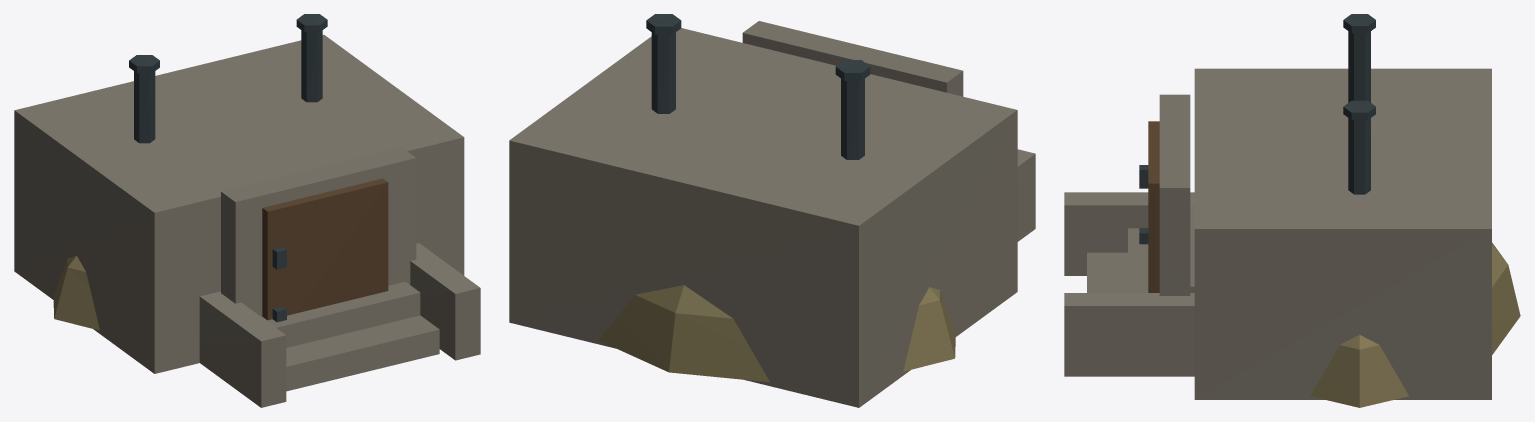
File: root-cellar.source.glb
3 renders of one model, left to right at view 1: azimuth 30°, elevation 25°; view 2: azimuth 150°, elevation 25°; view 3: azimuth 270°, elevation 25°, orthographic. The views are drawn at different scales.
Visible parts, largest first — view 1: root-cellar-stone-vault-mesh, root-cellar-heavy-timber-door-mesh, root-cellar-low-retaining-wall-mesh (×2), root-cellar-entrance-facade-mesh, root-cellar-descending-stone-step-mesh (×2), root-cellar-ventilation-pipe-mesh (×2), root-cellar-faceted-earth-cover-mesh, root-cellar-vent-cap-mesh (×2); view 2: root-cellar-stone-vault-mesh, root-cellar-faceted-earth-cover-mesh, root-cellar-entrance-facade-mesh, root-cellar-ventilation-pipe-mesh (×2), root-cellar-low-retaining-wall-mesh, root-cellar-vent-cap-mesh (×2); view 3: root-cellar-stone-vault-mesh, root-cellar-low-retaining-wall-mesh (×2), root-cellar-entrance-facade-mesh, root-cellar-faceted-earth-cover-mesh, root-cellar-descending-stone-step-mesh (×3), root-cellar-ventilation-pipe-mesh (×2), root-cellar-heavy-timber-door-mesh, root-cellar-vent-cap-mesh (×2).
Part boxes in pixels (x1,y1,x2,y2): root-cellar-stone-vault-mesh: (14, 35, 464, 373); root-cellar-heavy-timber-door-mesh: (262, 178, 388, 320); root-cellar-low-retaining-wall-mesh (×2): (199, 243, 480, 407); root-cellar-entrance-facade-mesh: (221, 147, 416, 316); root-cellar-descending-stone-step-mesh (×2): (261, 281, 439, 391); root-cellar-ventilation-pipe-mesh (×2): (134, 30, 322, 143); root-cellar-faceted-earth-cover-mesh: (53, 255, 99, 330); root-cellar-vent-cap-mesh (×2): (129, 14, 327, 73); root-cellar-stone-vault-mesh: (509, 28, 1017, 407); root-cellar-faceted-earth-cover-mesh: (598, 285, 955, 382); root-cellar-entrance-facade-mesh: (742, 21, 963, 96); root-cellar-ventilation-pipe-mesh (×2): (651, 32, 864, 159); root-cellar-low-retaining-wall-mesh: (1017, 149, 1035, 241); root-cellar-vent-cap-mesh (×2): (646, 14, 870, 80); root-cellar-stone-vault-mesh: (1194, 68, 1491, 399); root-cellar-low-retaining-wall-mesh (×2): (1064, 192, 1194, 376); root-cellar-entrance-facade-mesh: (1159, 94, 1190, 295); root-cellar-faceted-earth-cover-mesh: (1310, 242, 1520, 407); root-cellar-descending-stone-step-mesh (×3): (1087, 204, 1194, 292); root-cellar-ventilation-pipe-mesh (×2): (1348, 31, 1370, 194); root-cellar-heavy-timber-door-mesh: (1148, 121, 1159, 292); root-cellar-vent-cap-mesh (×2): (1343, 14, 1375, 119).
Bounding box in the file's own units: 2.12 × 1.37 × 2.22.
